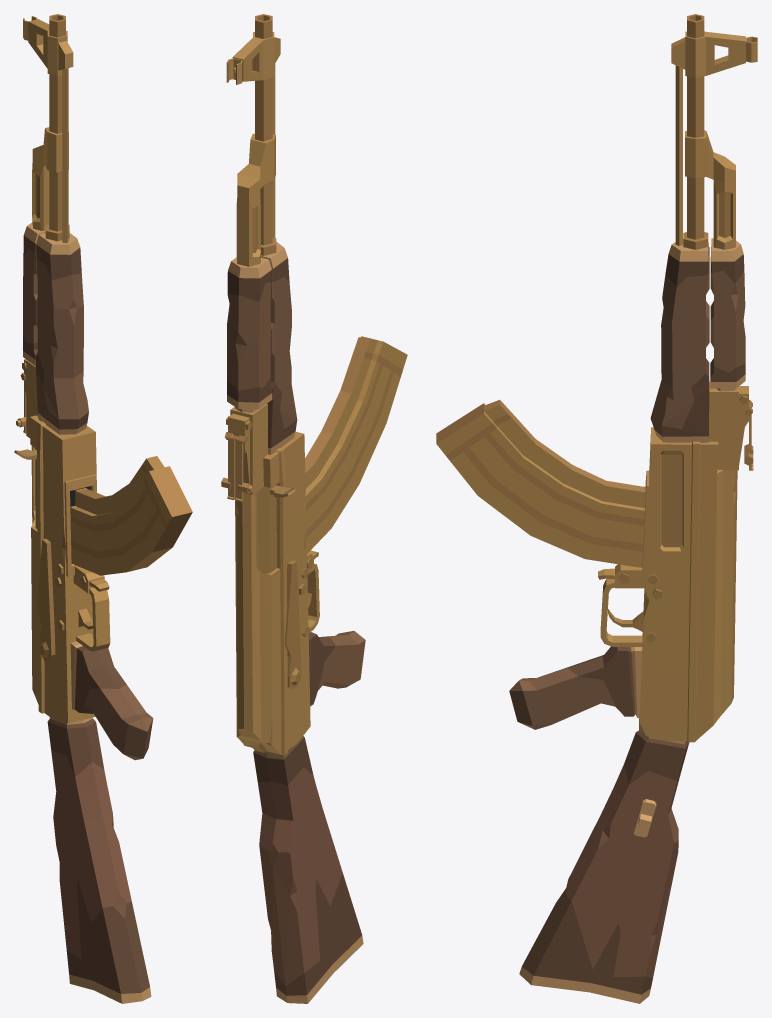
File: supporter_midas_ak47.glb
The picture shows the model from 3 angles, left to right: view 1: azimuth 30°, elevation 25°; view 2: azimuth 150°, elevation 25°; view 3: azimuth 270°, elevation 25°; orthographic projection. The views are drawn at different scales.
Visible parts, largest first — view 1: supporter_midas_ak47; view 2: supporter_midas_ak47; view 3: supporter_midas_ak47.
Part boxes in pixels (bbox=[...]): supporter_midas_ak47: bbox=[14, 14, 192, 1003]; supporter_midas_ak47: bbox=[221, 14, 407, 1003]; supporter_midas_ak47: bbox=[436, 14, 757, 1003].
Bounding box in the file's own units: 0.075 × 1.15 × 0.3424.
1 material, 1 textured.
